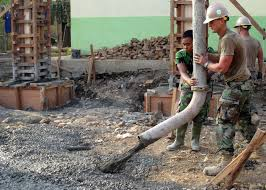casco: (202, 2, 229, 25), (233, 16, 252, 28)
